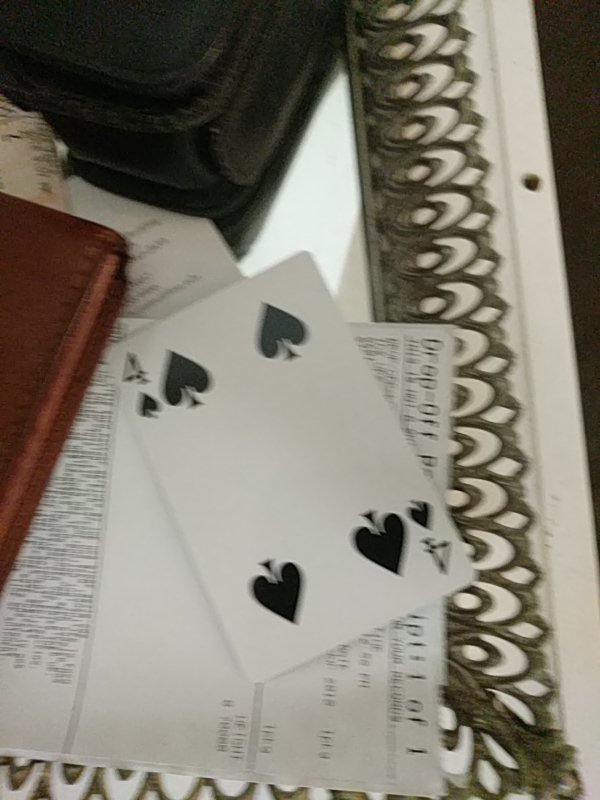Spades: (104, 252, 478, 687)
